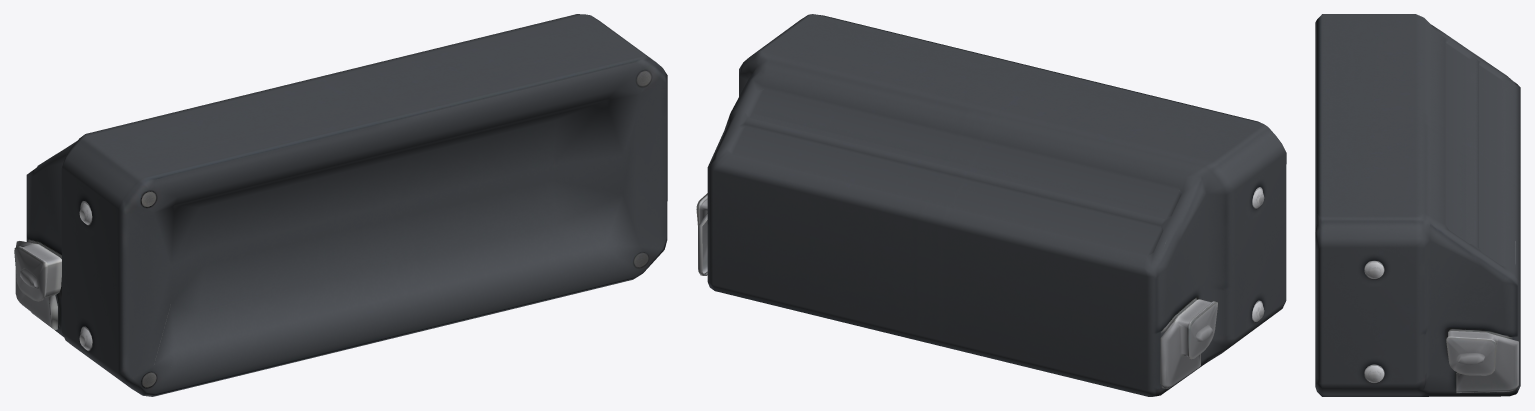
File: Led Light Strip.glb
The picture shows the model from 3 angles, left to right: view 1: azimuth 30°, elevation 25°; view 2: azimuth 150°, elevation 25°; view 3: azimuth 270°, elevation 25°; orthographic projection. The views are drawn at different scales.
Parts seen in each view (by area): view 1: tripo_node_4e8e0364-ead9-4a83-9aee-fe3845811045; view 2: tripo_node_4e8e0364-ead9-4a83-9aee-fe3845811045; view 3: tripo_node_4e8e0364-ead9-4a83-9aee-fe3845811045.
Part boxes in pixels (box(x1,y1,x2,y2)): tripo_node_4e8e0364-ead9-4a83-9aee-fe3845811045: box(14, 14, 667, 396); tripo_node_4e8e0364-ead9-4a83-9aee-fe3845811045: box(696, 14, 1286, 396); tripo_node_4e8e0364-ead9-4a83-9aee-fe3845811045: box(1315, 14, 1520, 396).
Size of the model in its own units: 0.9995 by 0.3794 by 0.3843.
1 material, 1 textured.
